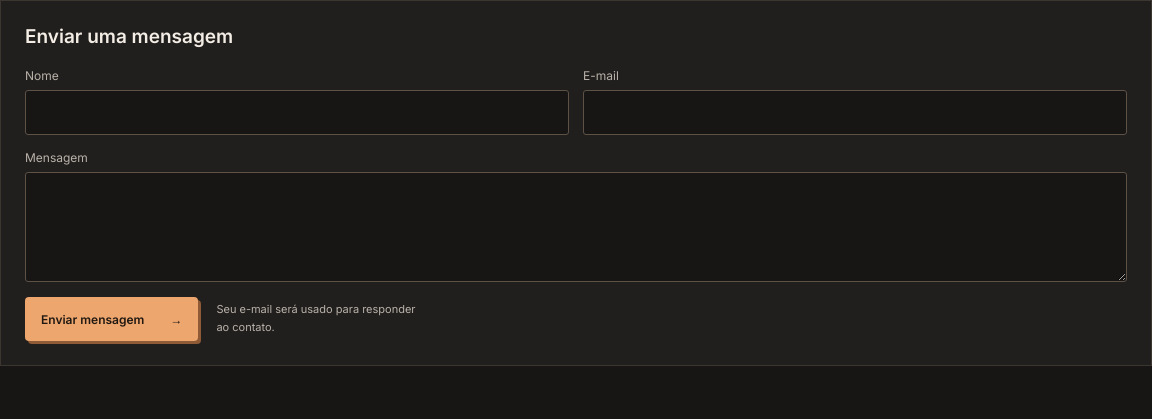
Test case: contact submissions › prevents duplicate sends and retains the message after a network error
In the field labelled "Nome": (297, 112) [25,90,569,135], type "Visitante"
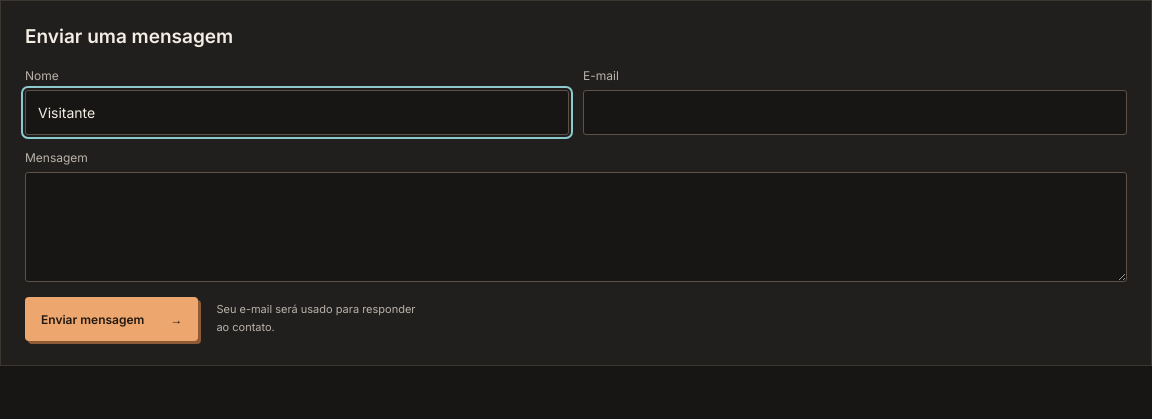
In the field labelled "E-mail": (855, 112) [583,90,1127,135], type "visitante@example.com"
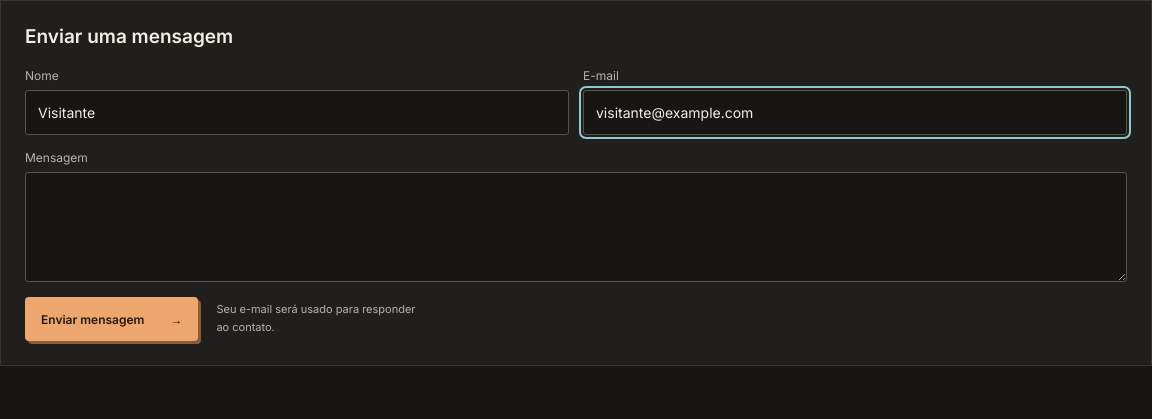
In the text box labelled "Mensagem": (576, 227) [25,172,1127,282], type "Gostaria de saber mais sobre o projeto."
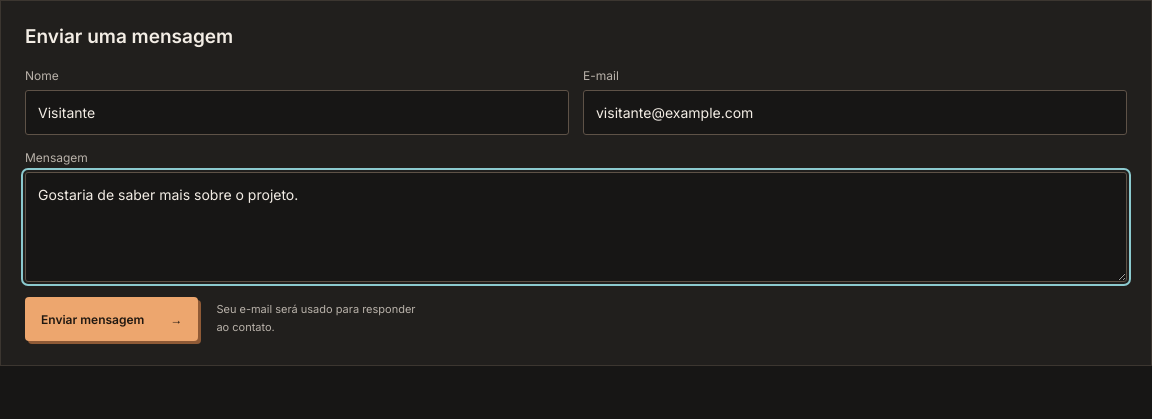
Click the button "Enviar mensagem →": (112, 319) [25,297,198,341]
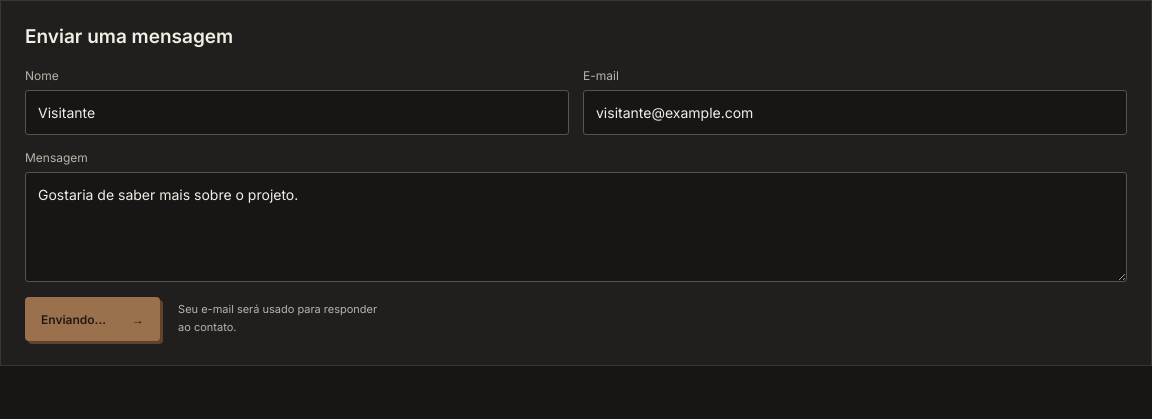
Expected: the button "Enviando... →" is disabled
Click the button "Enviando... →": (93, 319) [25,297,160,341]
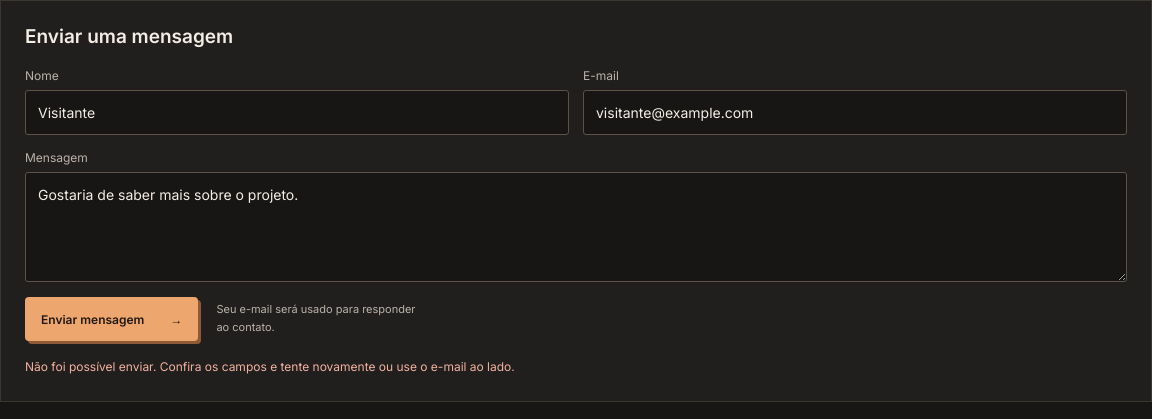
Expected: the message is shown, [25,359,515,374]
Expected: the button "Enviar mensagem →" is enabled, [25,297,198,341]
